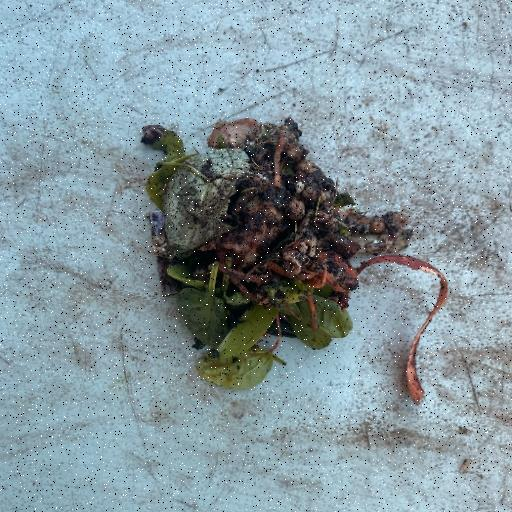Waste: (138, 114, 448, 404)
